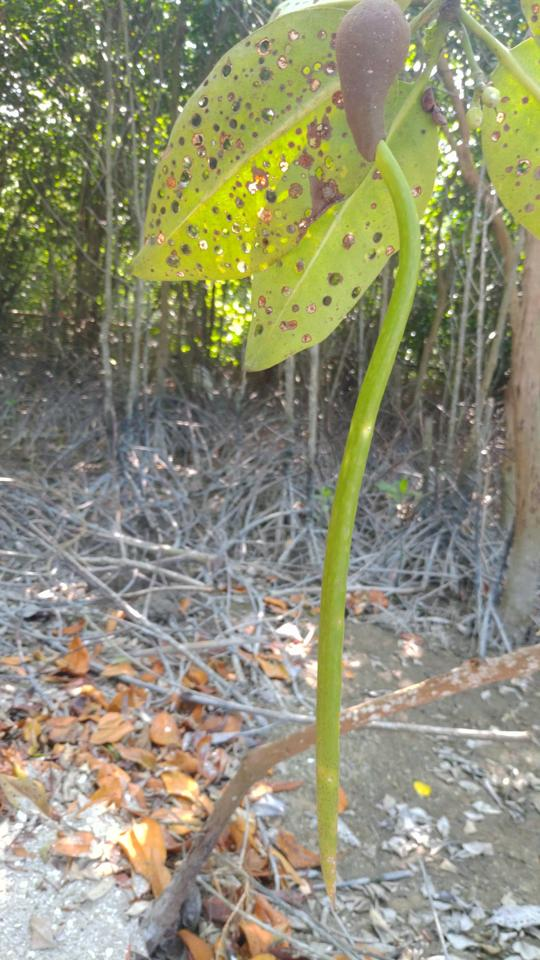mentah: (289, 10, 454, 915)
